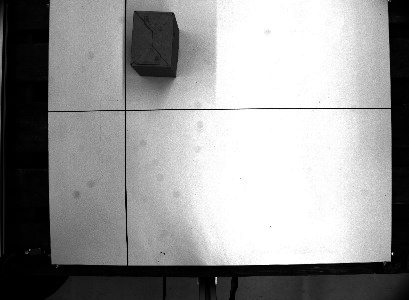b5: (128, 6, 180, 79)
